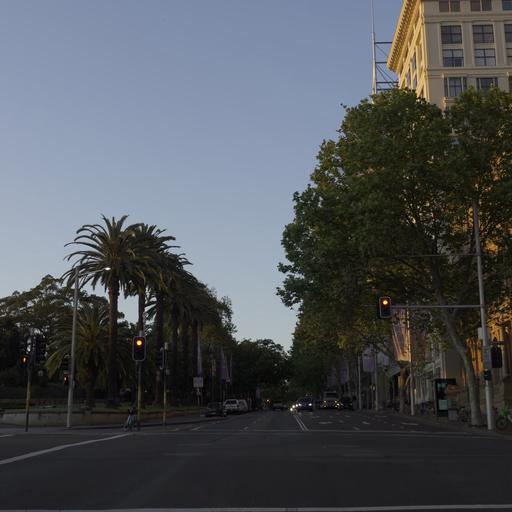Street light: (64, 264, 111, 428), (19, 327, 46, 431), (131, 335, 145, 362), (377, 295, 392, 318)
